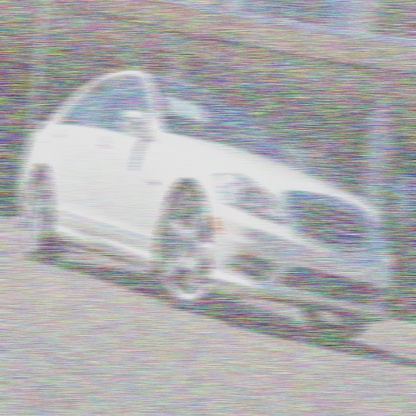Vehicle: (13, 67, 398, 348)
